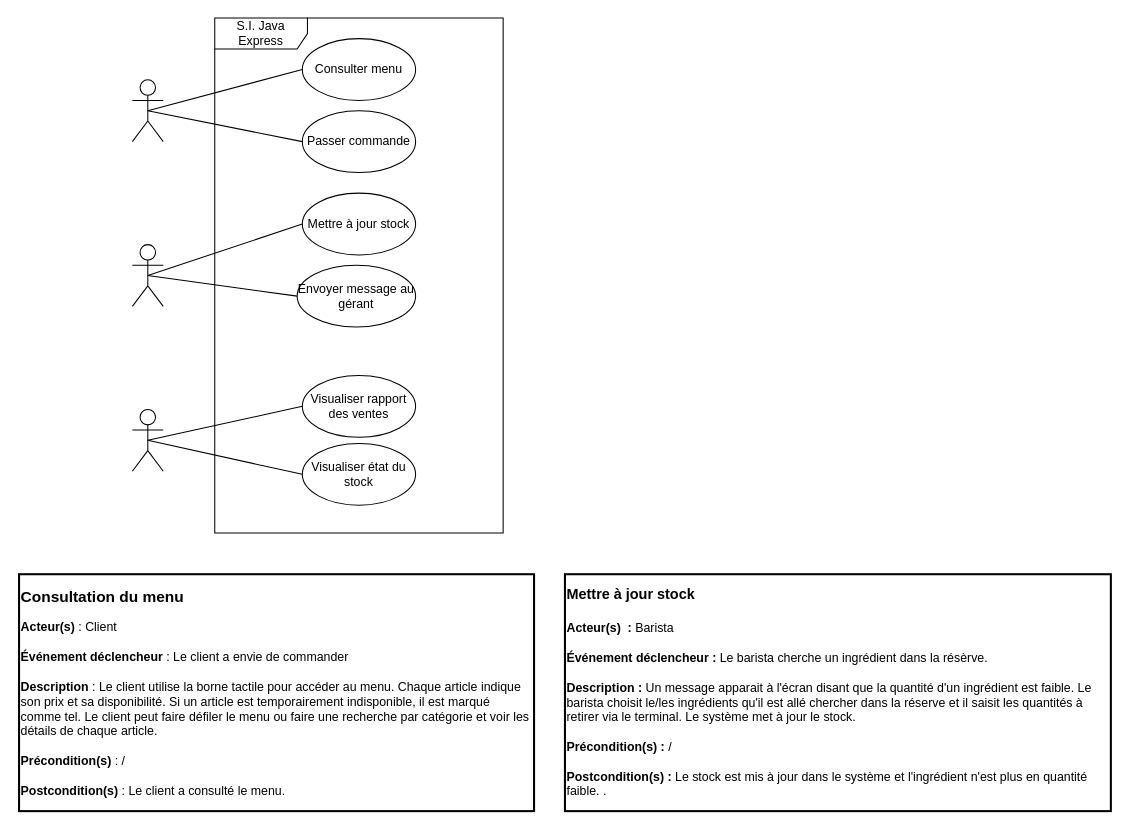
This 1129x830 diagram has some shape labels left out. Here are the shapes that lost their labels. From the top down, the centre of each, then its label:
the point at 147,110: Client
the point at 147,275: Barista
the point at 147,439: Gérant
